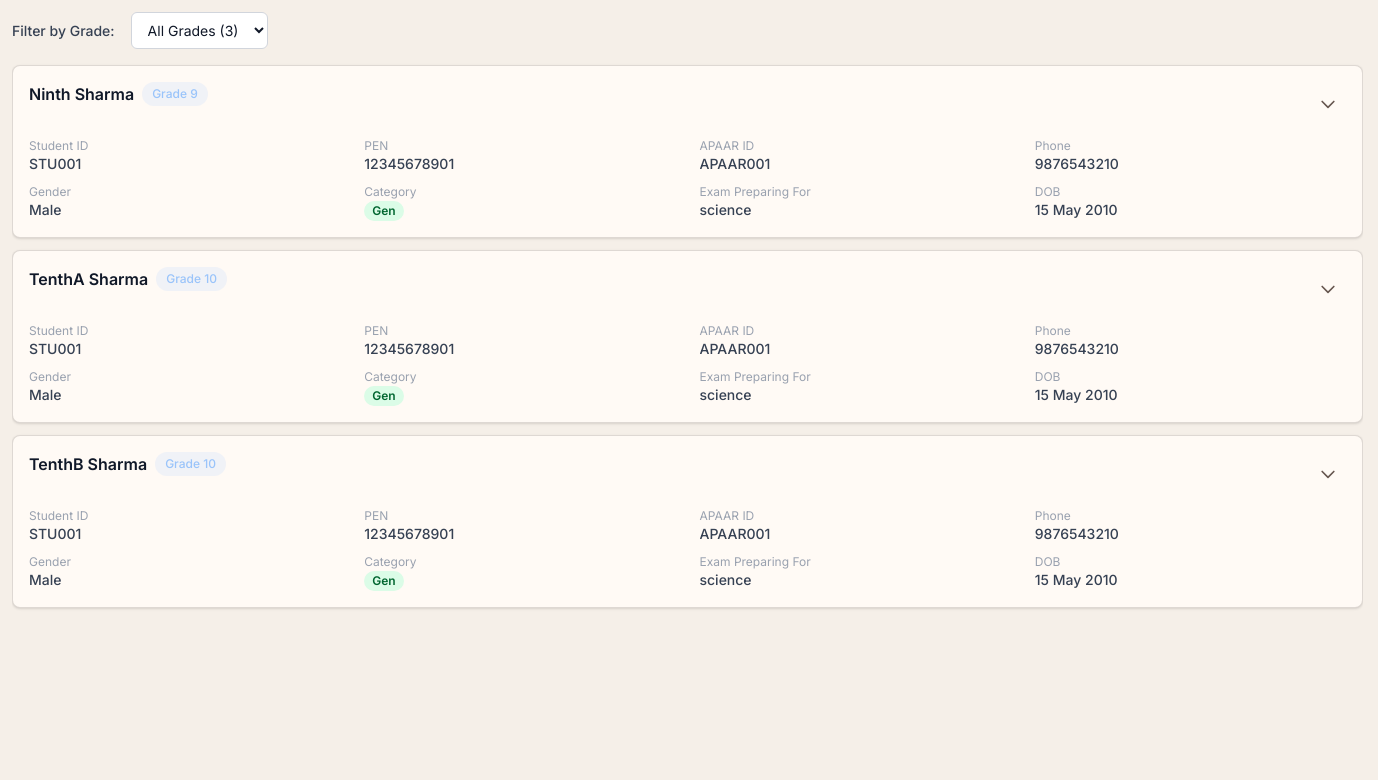
Test: StudentTable - grade filter › filters to selected grade
Select "Grade 9 (1)" in the dropdown labelled "Filter by Grade:" at (199, 30), box [131,12,268,49]
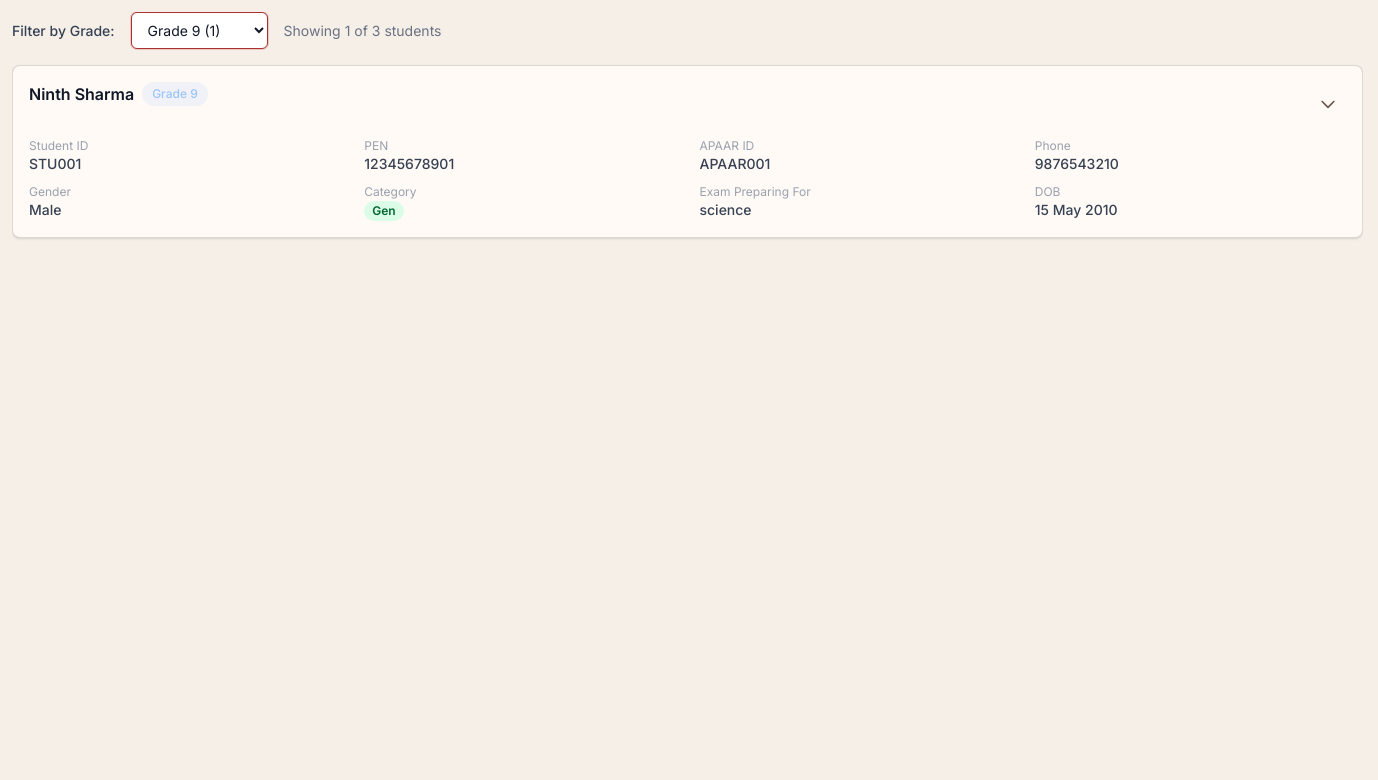
Expected: the heading "Ninth Sharma" is shown, [29,82,134,106]
Result: the heading "TenthA Sharma" is gone
Result: the heading "TenthB Sharma" is gone
